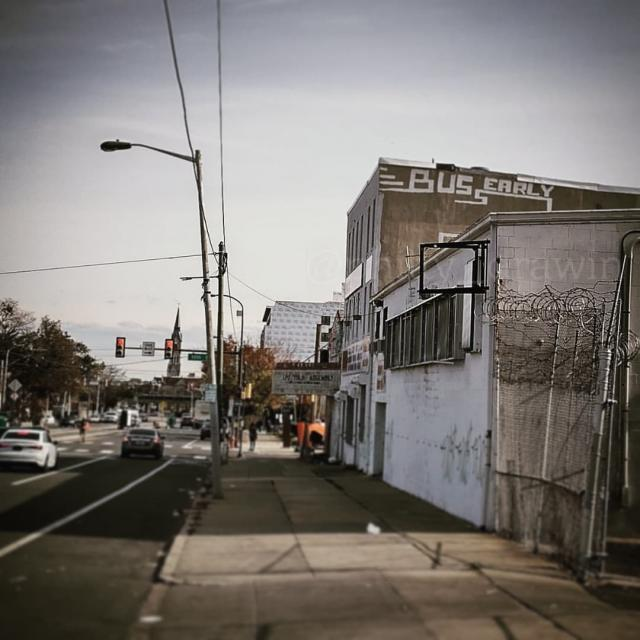nonspitting: (379, 164, 554, 211), (517, 254, 620, 282)
